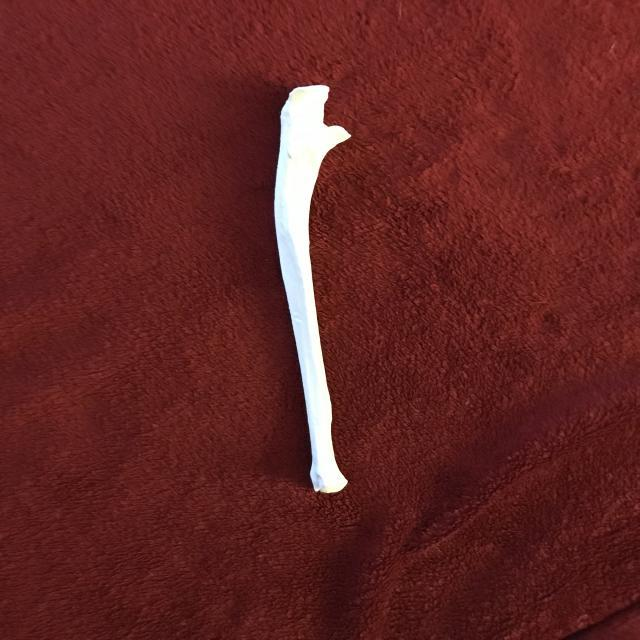bone: (264, 81, 364, 500)
